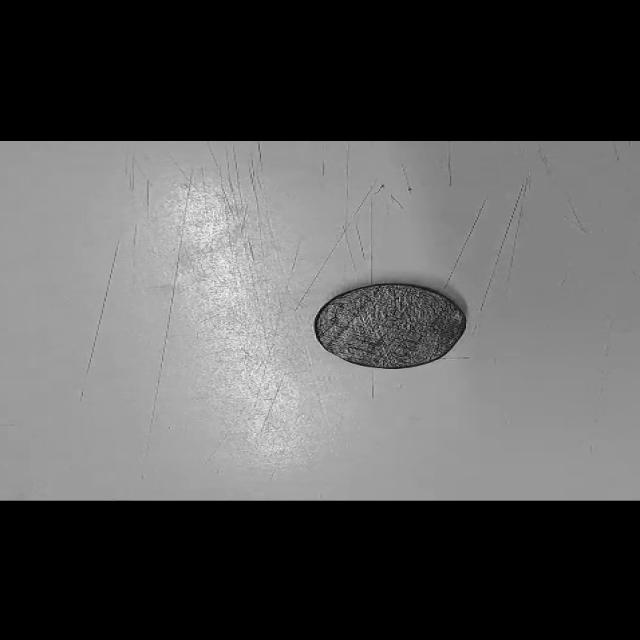rcircle: (312, 282, 472, 370)
